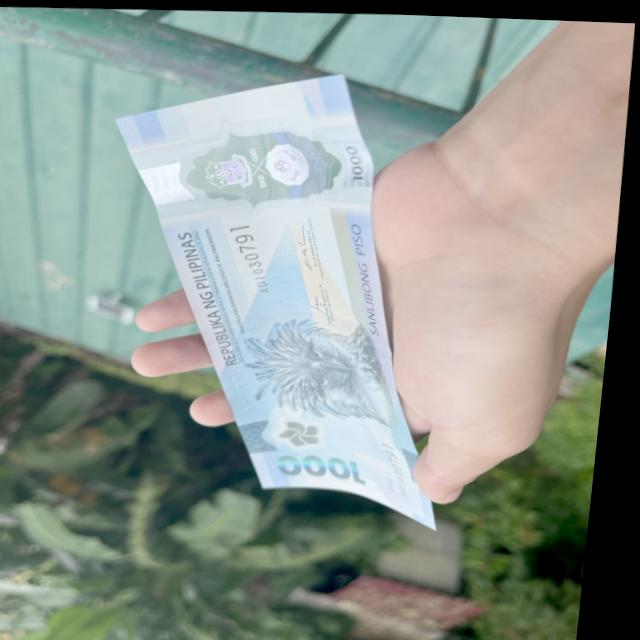clear_window: (124, 101, 379, 229)
eagle: (247, 326, 410, 415)
sampaguita: (276, 414, 355, 448)
serial_number: (226, 216, 283, 298)
